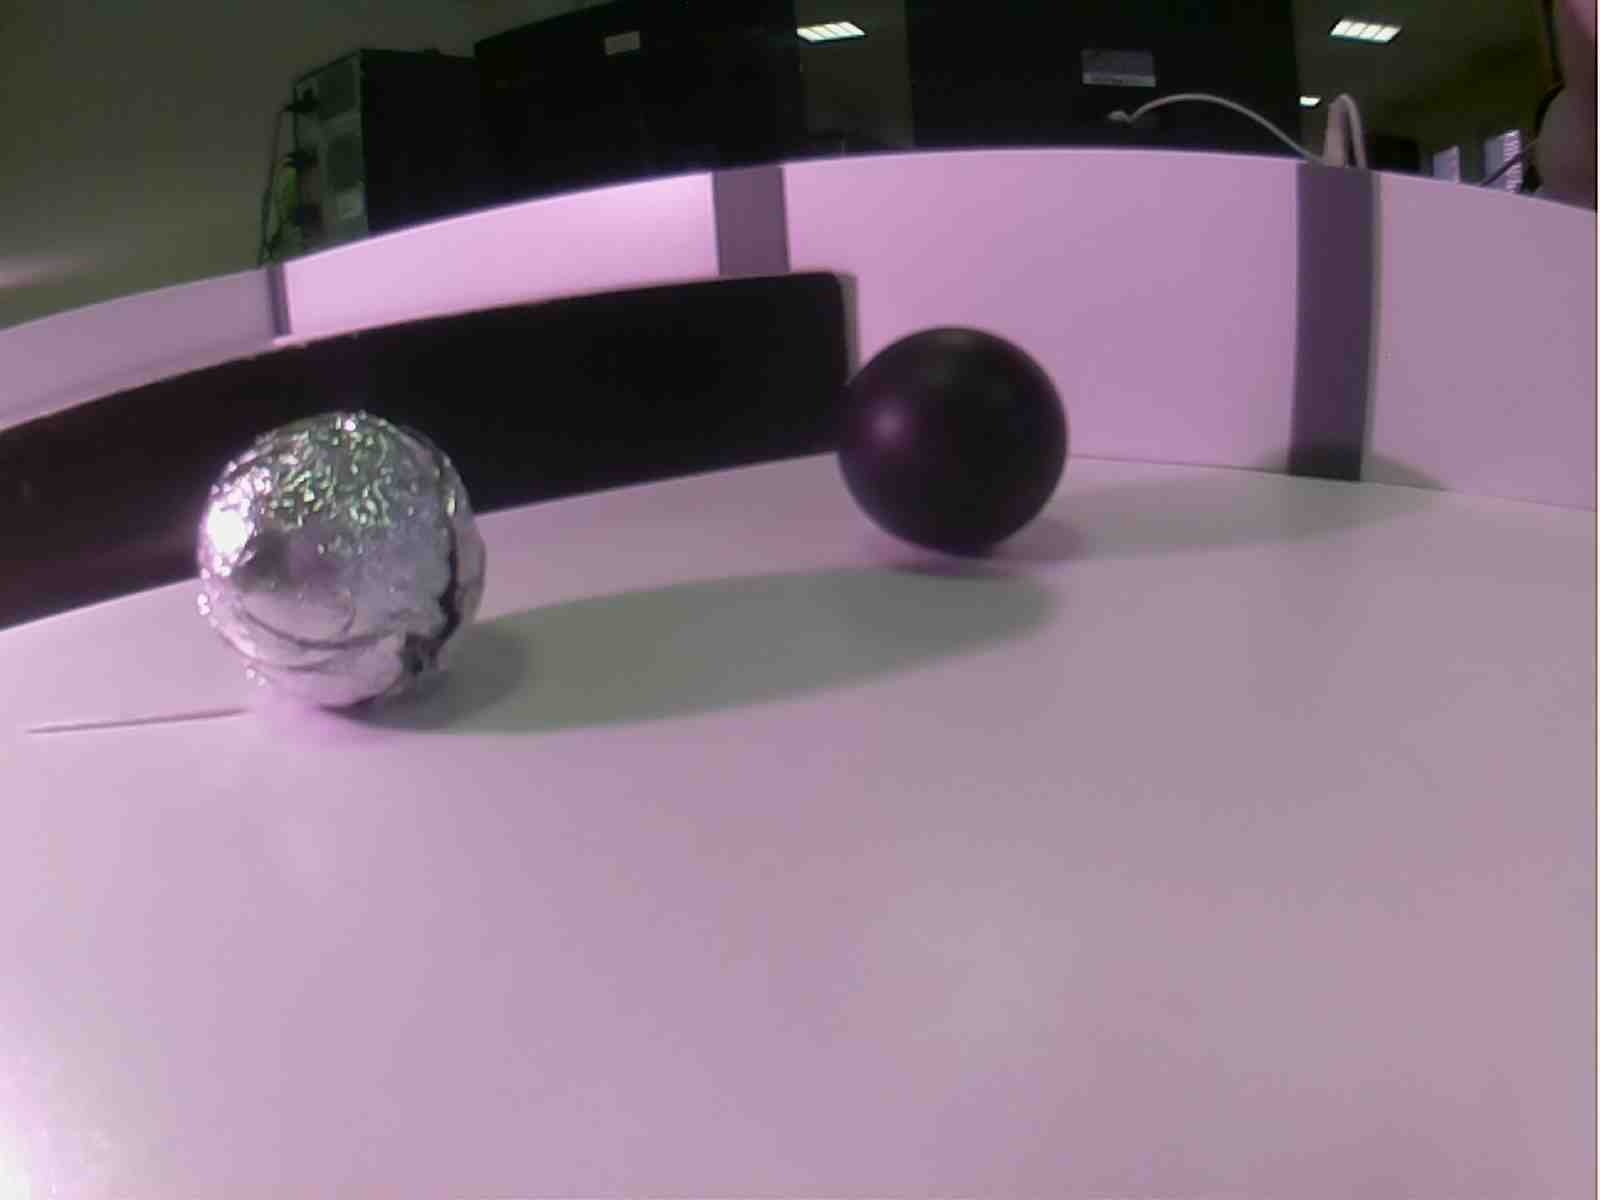bianca: (184, 413, 489, 716)
nera: (828, 321, 1071, 574)
